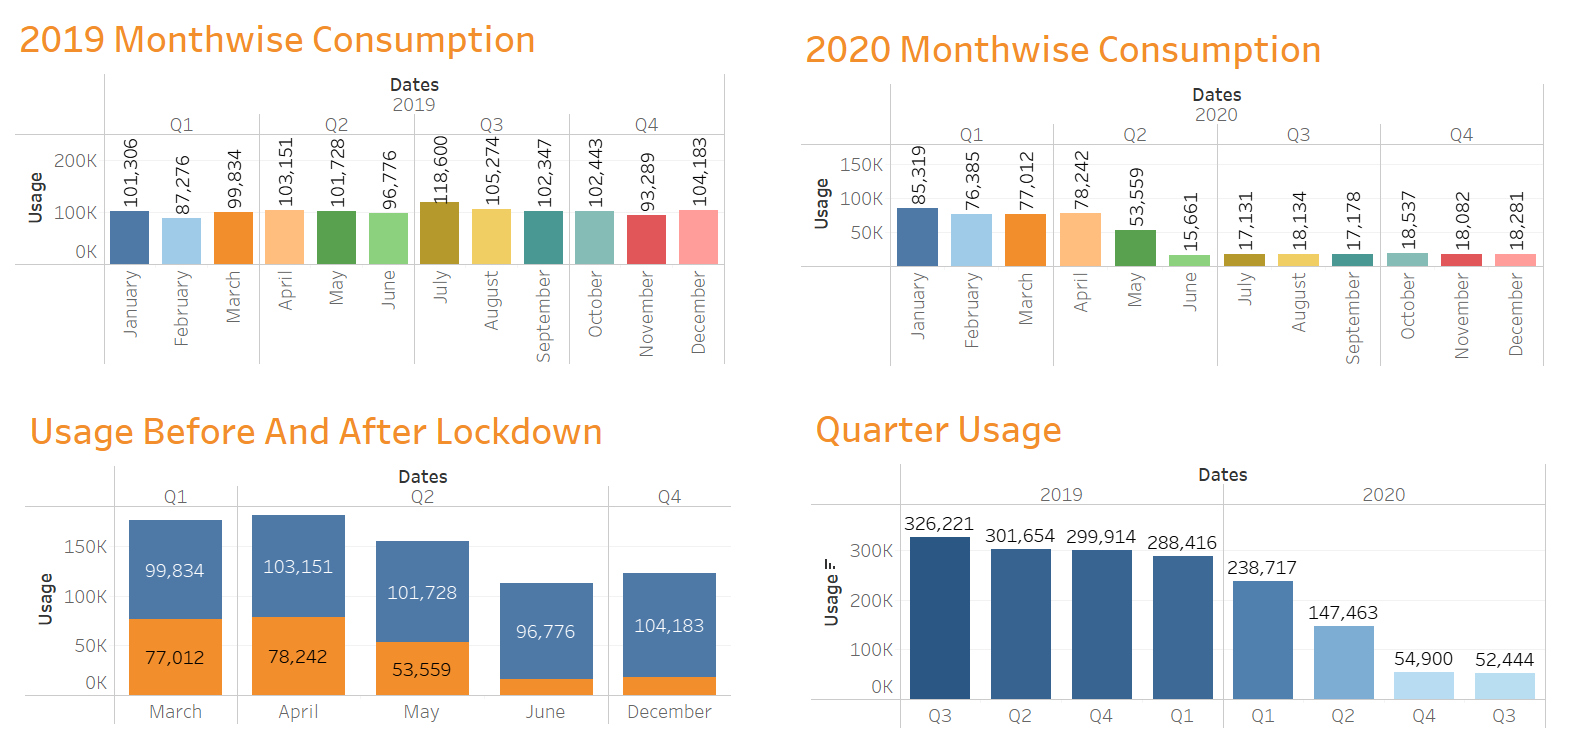

The page's visual inventory and layout, read from the dashboard file:
{"tool":"tableau","page":{"name":"Dashboard 4","canvas":[1000,1000],"units":"permille","ordinal":3},"visuals":[{"type":"worksheet","title":" 2019 Monthwise Consumption","mark":"Bar","rows":["Usage"],"cols":["Dates","Dates","Dates"],"box":[16.2,17.4,442.9,477.2]},{"type":"worksheet","title":" 2020 Monthwise Consumption","mark":"Bar","rows":["Usage"],"cols":["Dates","Dates","Dates"],"box":[506,30.8,463.3,466.5]},{"type":"worksheet","title":"Quarter Usage","mark":"Bar","rows":["Usage"],"cols":["Dates","Dates"],"box":[512.6,540.2,457.9,442.4]},{"type":"worksheet","title":" Usage Before and After Lockdown","mark":"Bar","rows":["Usage"],"cols":["Dates","Dates"],"box":[22.2,542.9,440.5,434.3]}]}

Visuals, with their boxes on the dashboard's canvas, which has no fixed pixel size, in thousandths of its width and height (x1, y1, x2, y2). These are canvas units, not pixel positions in the 1593x741 screenshot, which may show the page scaled, cropped or inside an application window:
" 2019 Monthwise Consumption" worksheet (Bar marks): 16, 17, 459, 495
" 2020 Monthwise Consumption" worksheet (Bar marks): 506, 31, 969, 497
"Quarter Usage" worksheet (Bar marks): 513, 540, 970, 983
" Usage Before and After Lockdown" worksheet (Bar marks): 22, 543, 463, 977
